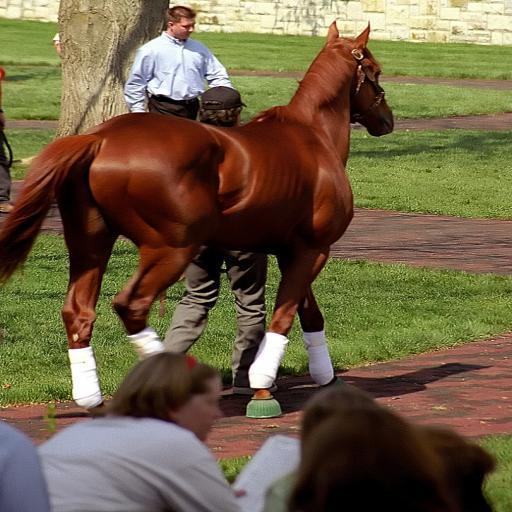horse: (1, 20, 398, 418)
